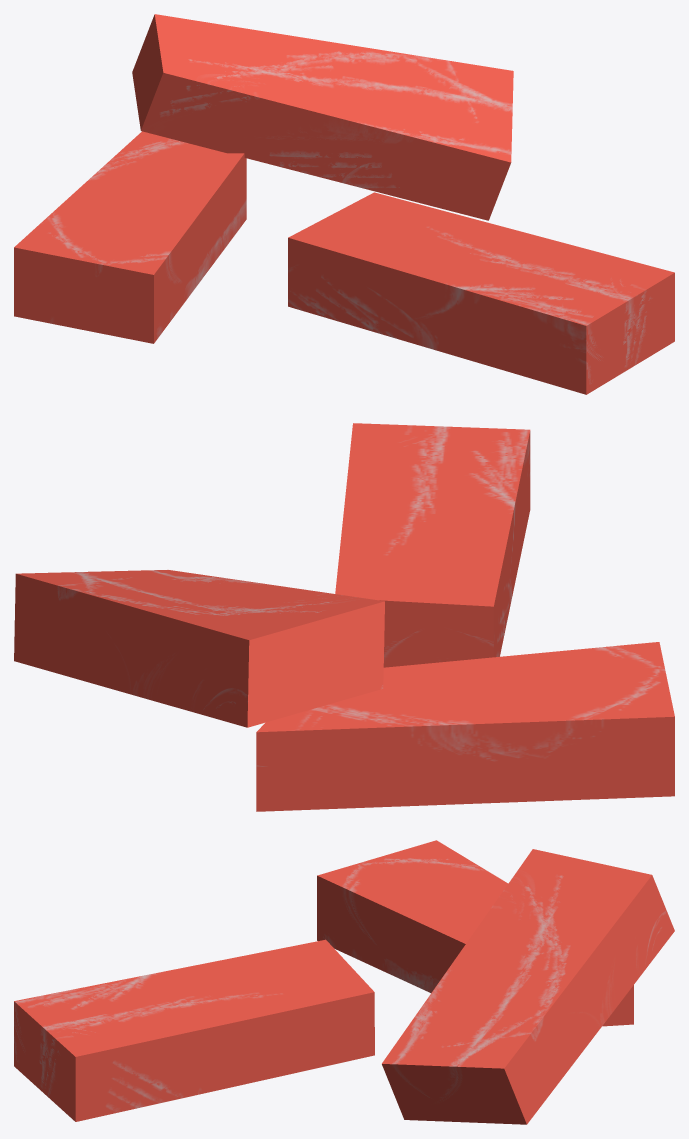
File: DestroçosTijolinhos.fbx
The picture shows the model from 3 angles, top to bottom: view 1: azimuth 30°, elevation 25°; view 2: azimuth 150°, elevation 25°; view 3: azimuth 270°, elevation 25°; orthographic projection. The views are drawn at different scales.
Parts seen in each view (by area): view 1: Cubo.004; view 2: Cubo.004; view 3: Cubo.004.
Boxes of the visible parts, x1,y1,x2,y2 form: Cubo.004: (14, 14, 674, 394); Cubo.004: (14, 423, 674, 811); Cubo.004: (14, 840, 674, 1124).
Size of the model in its own units: 68.27 by 19.63 by 77.23.
